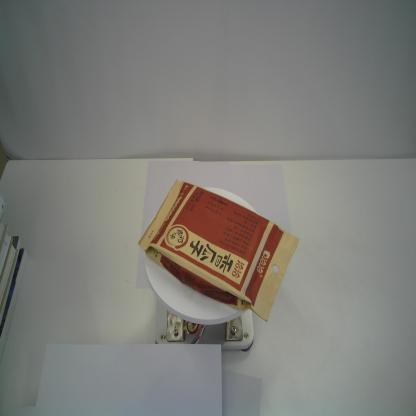Dried Food: (138, 178, 299, 322)
